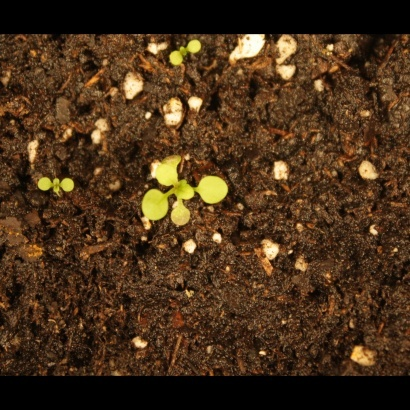leaf: (196, 171, 234, 209), (140, 184, 170, 226), (152, 155, 189, 189), (166, 201, 195, 236), (59, 176, 82, 199), (33, 174, 56, 197), (159, 51, 182, 74), (186, 36, 209, 59), (173, 181, 196, 204)
